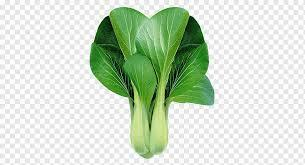Healthy-Pechay: (77, 4, 245, 163), (93, 44, 122, 76), (136, 21, 156, 60), (153, 8, 183, 29), (95, 16, 117, 44), (172, 43, 202, 63)
